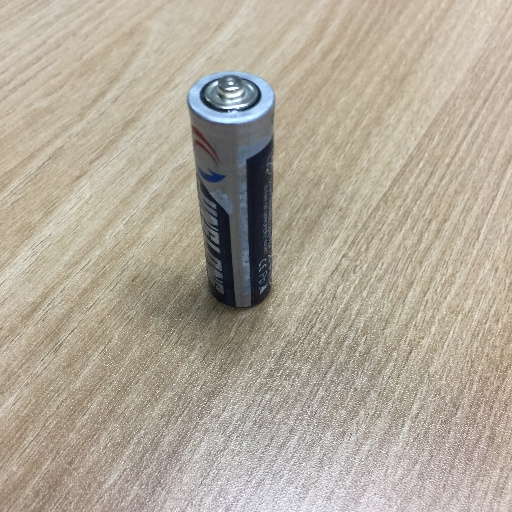Battery_0: (182, 60, 287, 316)
